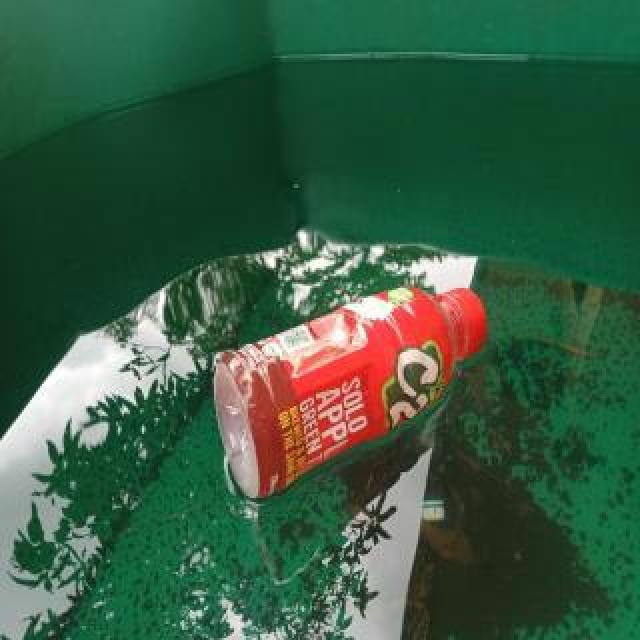bottle: (210, 279, 488, 505)
